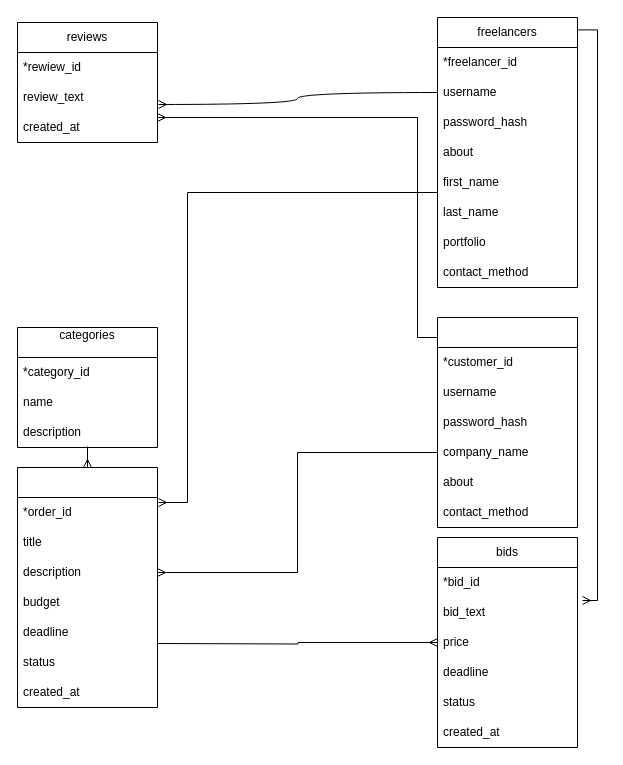
This 623x765 diagram has some shape labels left out. The box of each missing label's shape, as (x1, y1, x2, y2) in pixels:
customers: (436, 316, 578, 528)
orders: (16, 466, 158, 708)
